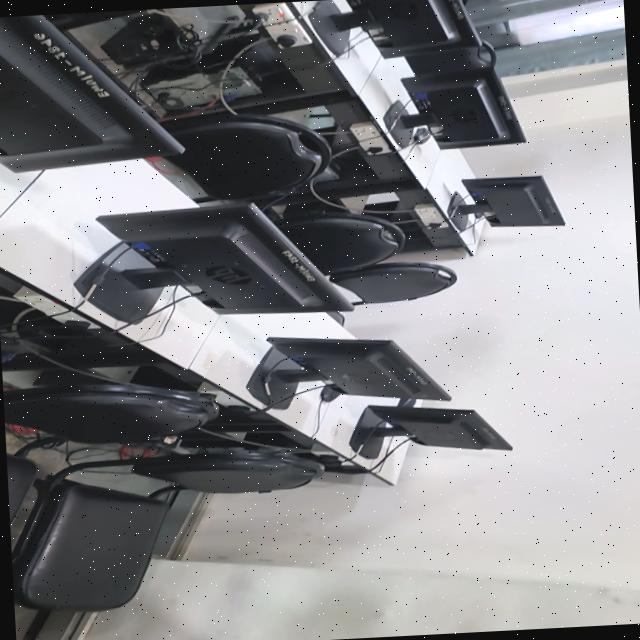Chair: (12, 448, 323, 611), (164, 112, 330, 200), (3, 381, 214, 443), (276, 216, 399, 275), (331, 262, 457, 304), (406, 44, 496, 74), (6, 452, 36, 523)
Cpu: (137, 69, 223, 110), (222, 65, 261, 97)
Monitor: (75, 202, 354, 320), (0, 14, 183, 172), (247, 336, 451, 408), (385, 65, 526, 148), (309, 0, 460, 57), (351, 405, 512, 457), (450, 175, 565, 226)
Mouse: (321, 384, 343, 402), (414, 127, 433, 144), (398, 398, 416, 406)
